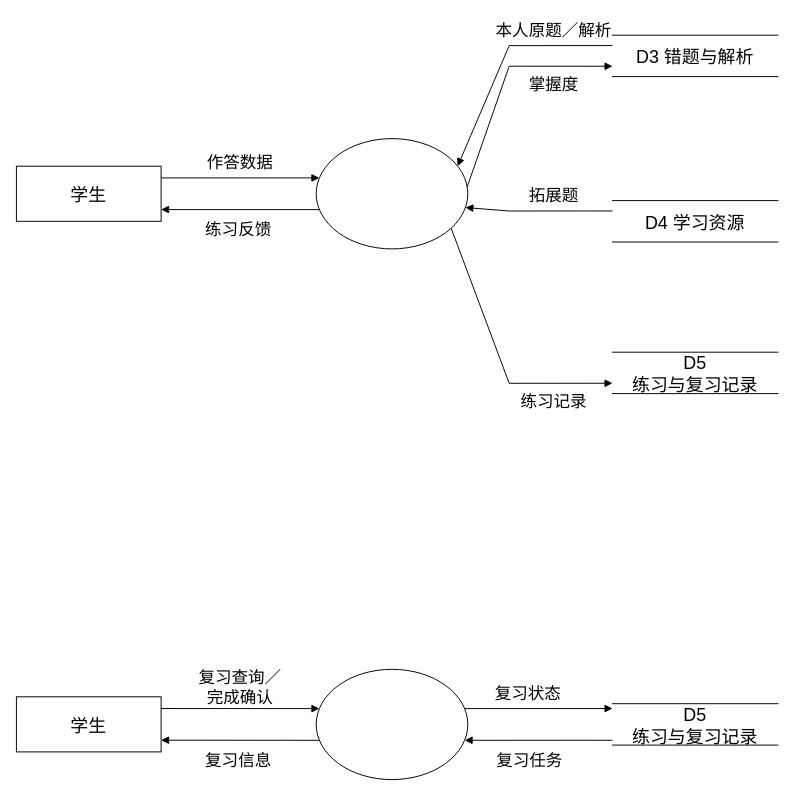
Some shapes in this 794 by 796 pixel diagram are drawn without their labels. The centre of each missing label's shape, as x and y in pixels:
"P4.3 记录作答结果" goes at pixel 391 193.
"P4.4 更新复习状态" goes at pixel 391 724.
